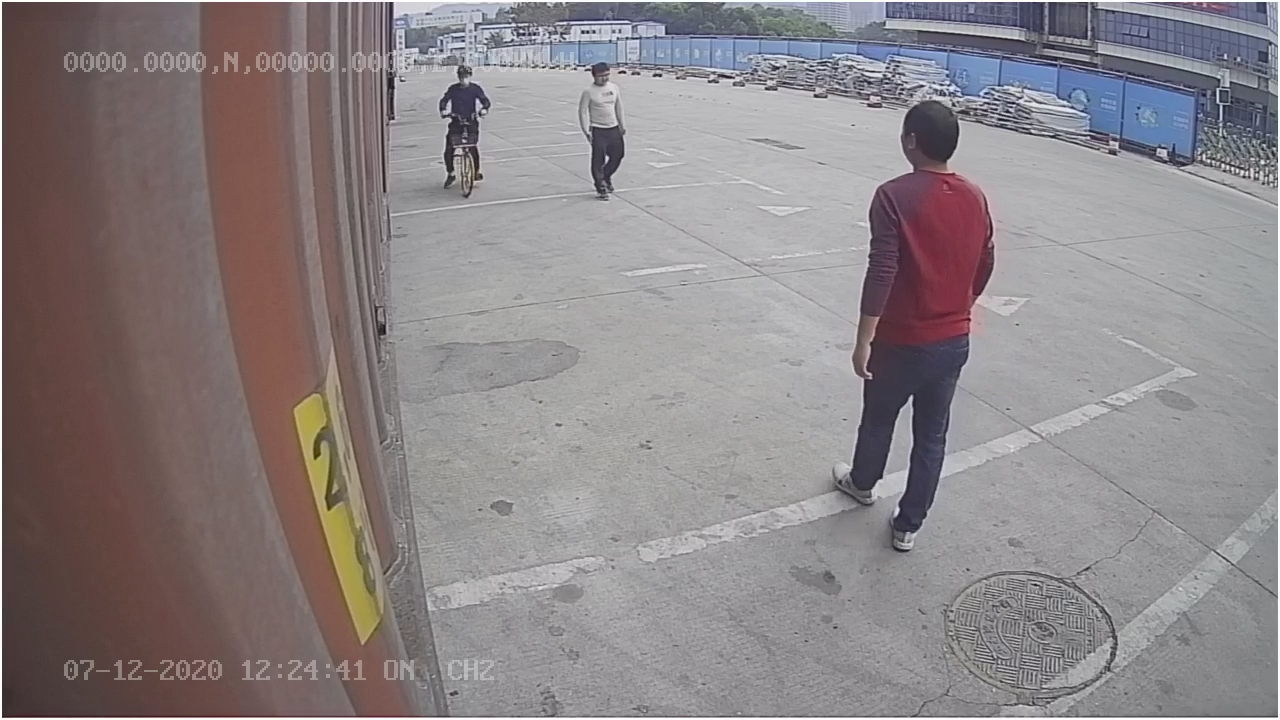person: (573, 60, 631, 202)
